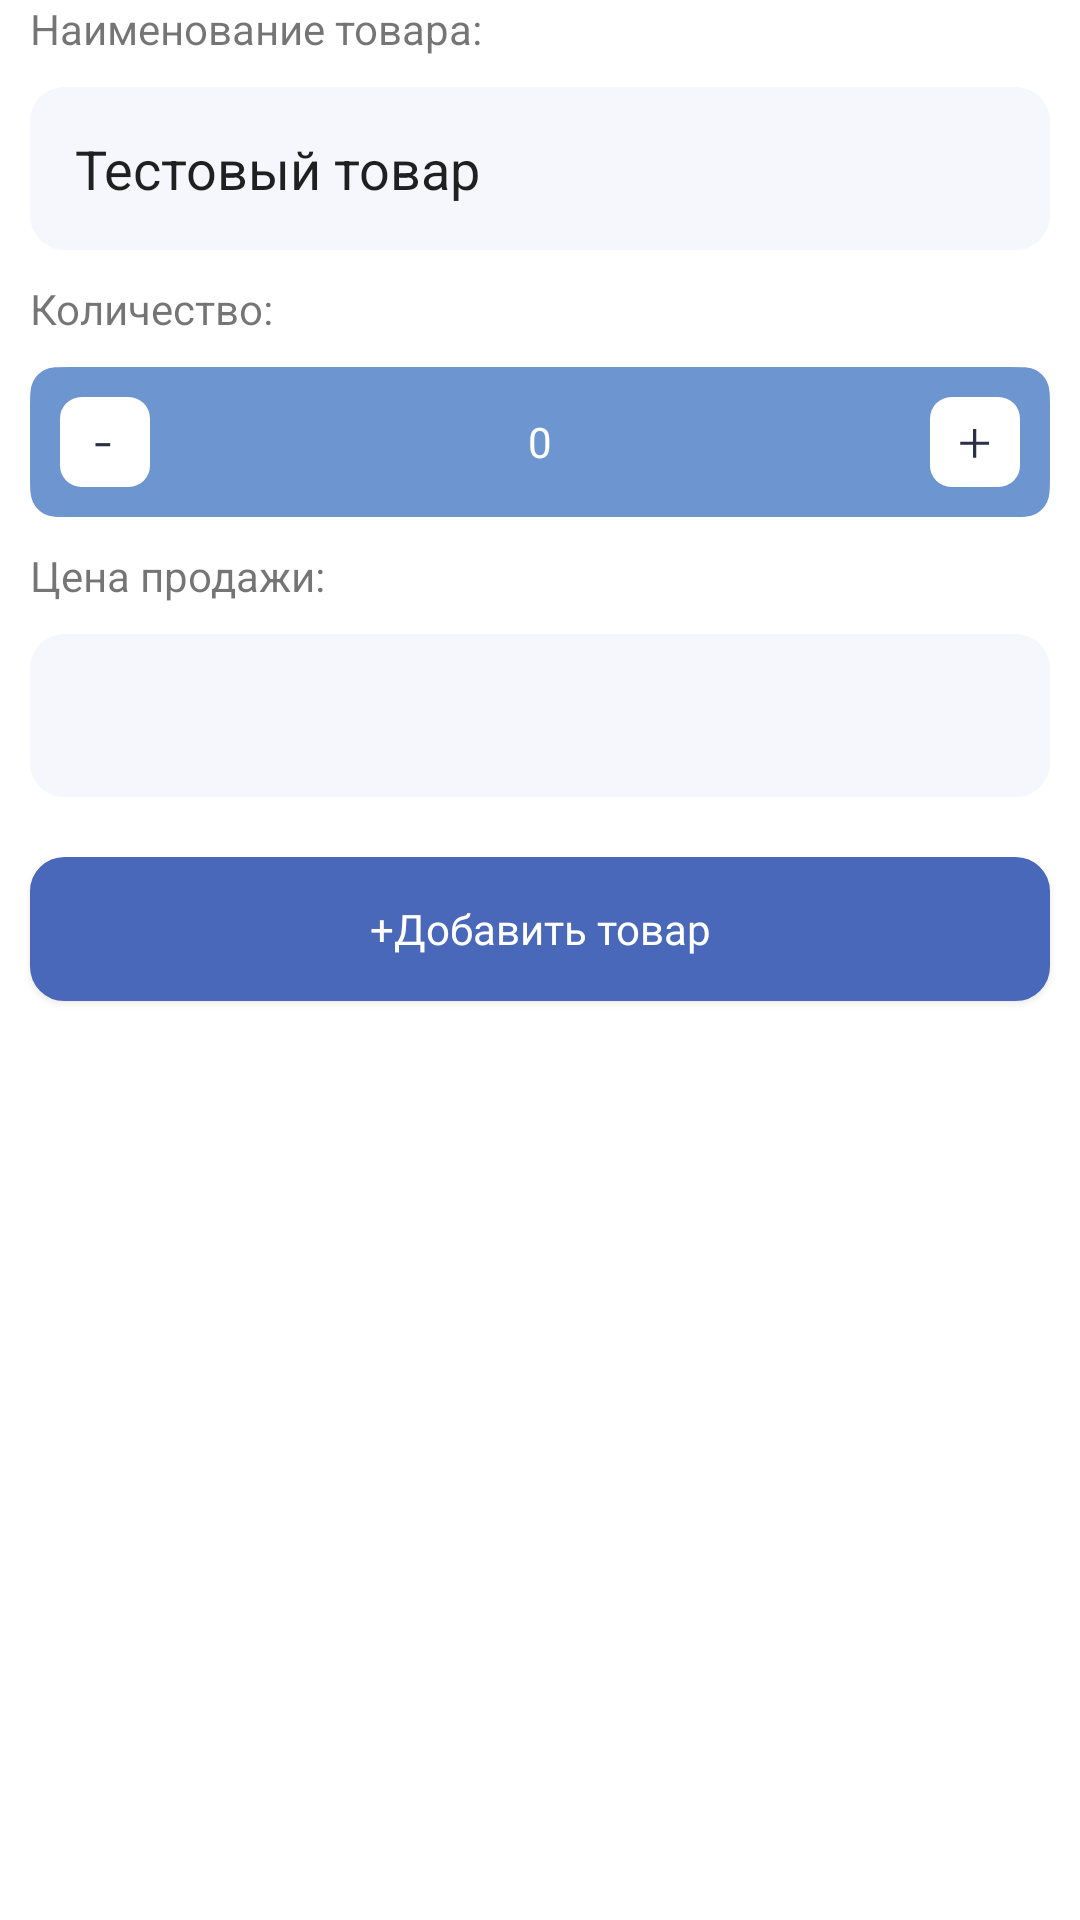

Icons on this 1080w x 1920h Android screen, each with its box as (x1, y1, x2, y2):
minus: (60, 397, 150, 487)
plus: (930, 397, 1020, 487)
